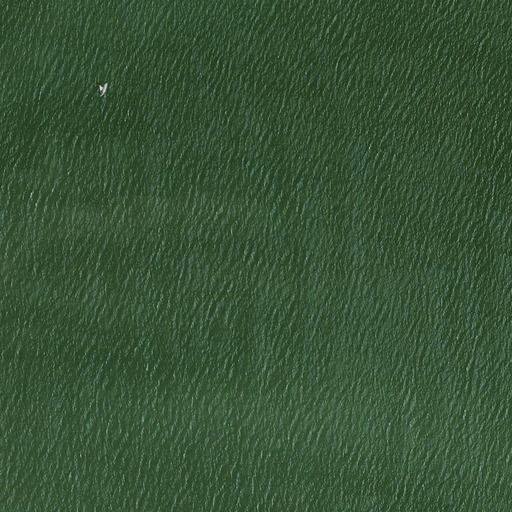ship: (94, 80, 109, 100)
